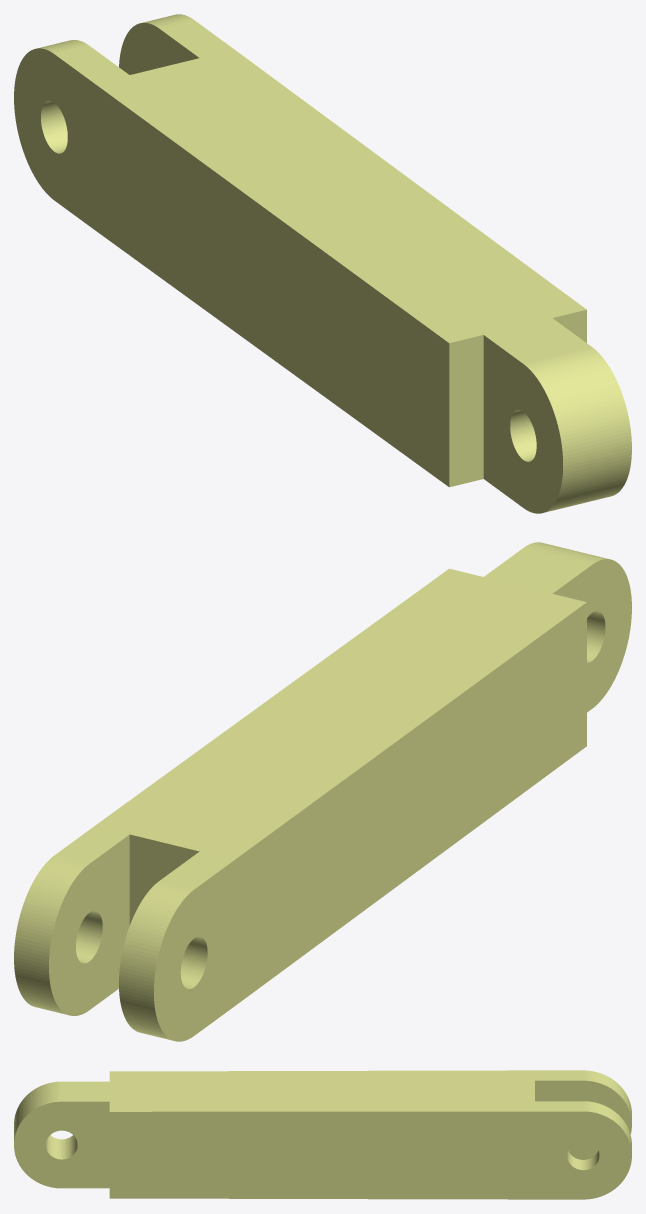
3 renders of one model, top to bottom at view 1: azimuth 30°, elevation 25°; view 2: azimuth 150°, elevation 25°; view 3: azimuth 270°, elevation 25°, orthographic. The views are drawn at different scales.
Visible parts, largest first — view 1: node; view 2: node; view 3: node.
Part boxes in pixels (left/top/right/bottom): node: left=14, top=14, right=631, bottom=513; node: left=14, top=542, right=631, bottom=1041; node: left=14, top=1070, right=631, bottom=1199.
Size of the model in its own units: 0.0686 by 0.0686 by 0.436.
